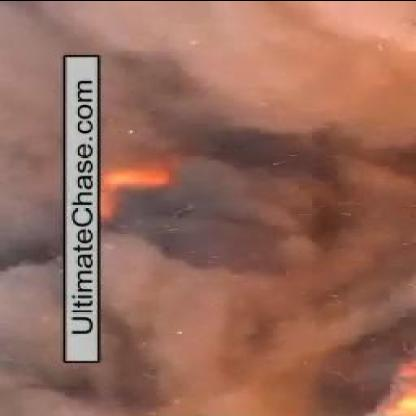-: (104, 35, 340, 398), (0, 55, 63, 379)
